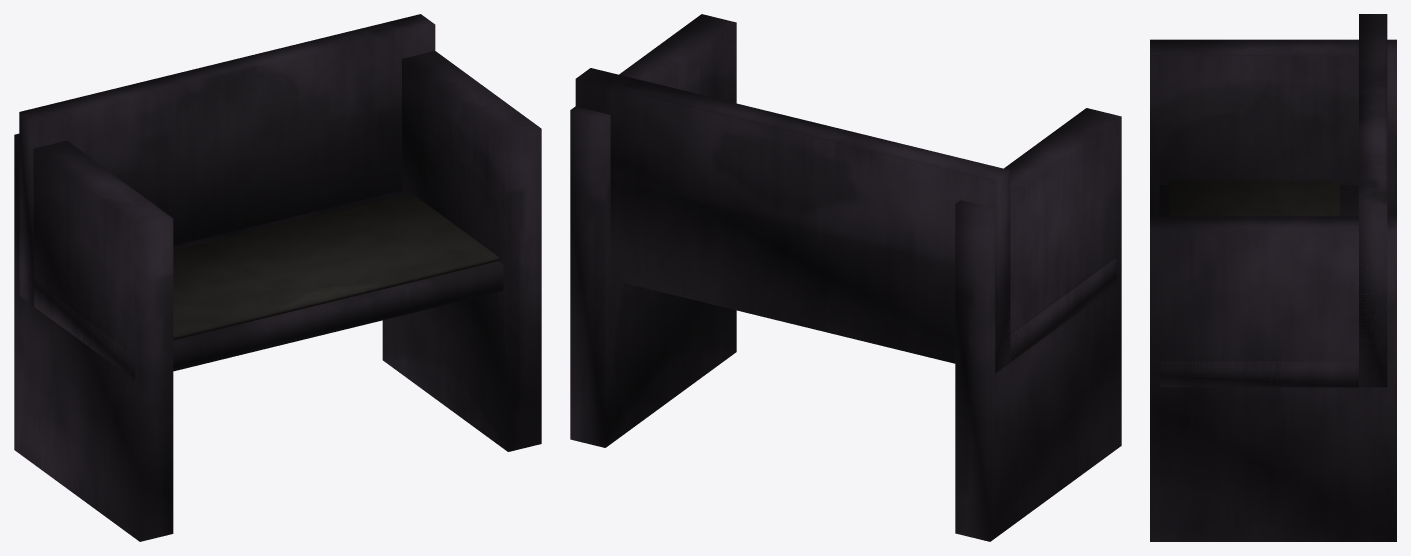
The model's file is black_pew.obj.
The picture shows the model from 3 angles, left to right: view 1: azimuth 30°, elevation 25°; view 2: azimuth 150°, elevation 25°; view 3: azimuth 270°, elevation 25°; orthographic projection. The views are drawn at different scales.
Visible parts, largest first — view 1: part0, part2; view 2: part0; view 3: part0, part2.
Boxes of the visible parts, bbox=[...] form: part0: bbox=[14, 14, 541, 541]; part2: bbox=[173, 193, 498, 340]; part0: bbox=[570, 14, 1121, 541]; part0: bbox=[1150, 14, 1396, 541]; part2: bbox=[1169, 180, 1339, 216].
Bounding box in the file's own units: 0.96 × 0.78 × 0.52.
